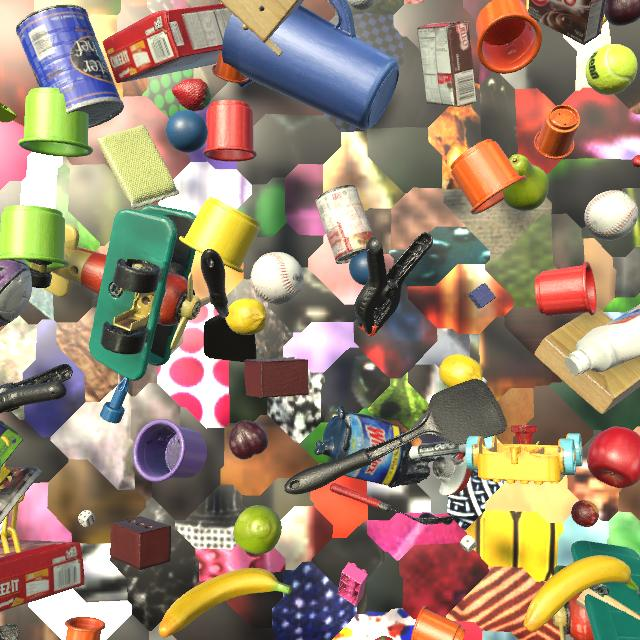ycb_002_master_chef_can: (16, 5, 124, 128)
ycb_003_cracker_box: (103, 4, 232, 83), (0, 538, 85, 612)
ycb_005_tomato_soup_can: (315, 185, 374, 264)
ycb_008_pudding_box: (417, 21, 477, 107), (528, 0, 607, 45)
ycb_011_banana: (159, 568, 292, 637), (524, 555, 639, 632)
ycb_012_strawberry: (172, 78, 211, 112), (375, 636, 394, 640)
ycb_013_apple: (587, 426, 640, 488)
ycb_014_lemon: (226, 298, 268, 335), (439, 354, 483, 388)
ycb_016_pear: (502, 154, 549, 211), (234, 505, 282, 555)
ycb_018_plum: (229, 420, 268, 460), (604, 0, 640, 26)
